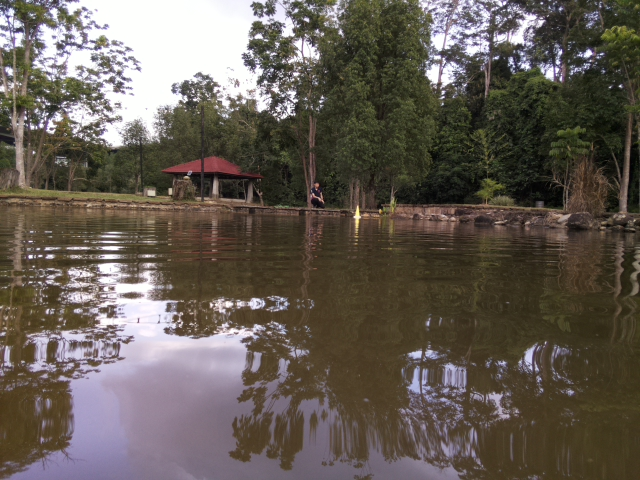checkpoint: (351, 205, 363, 219)
